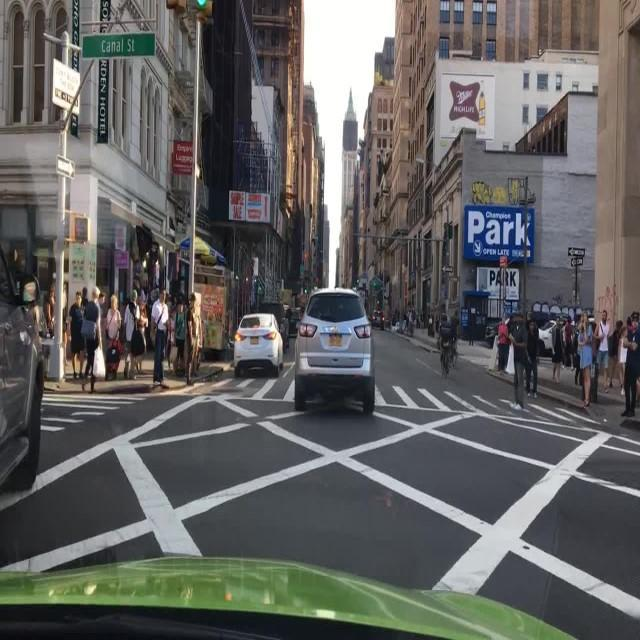normal: (295, 288, 375, 416), (235, 315, 286, 379)
